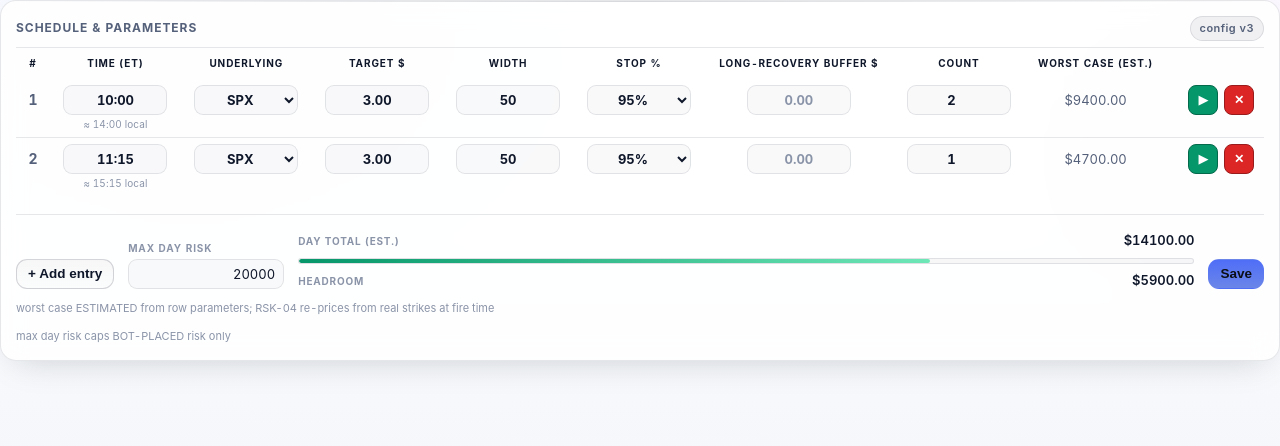
composing the schedule › adds and deletes rows locally, and sends them on Save
The width and height of the screenshot is (1280, 446).
Expected: the table is shown, [16,56,1264,196]
Click the button "+ Add entry" at (65, 274), box [16,259,114,289]
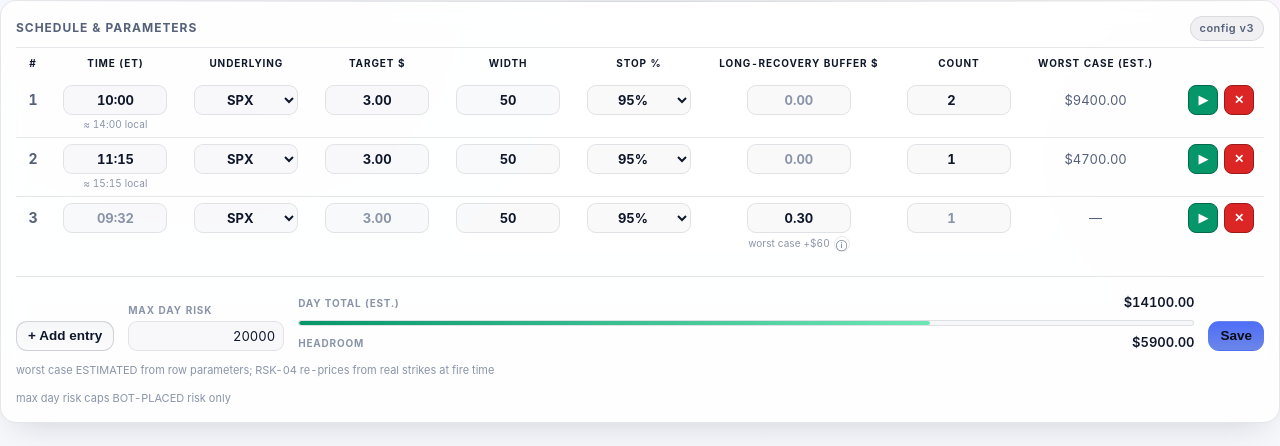
Type "13:00" into the field named "time 3" at (115, 218), box [63,203,167,233]
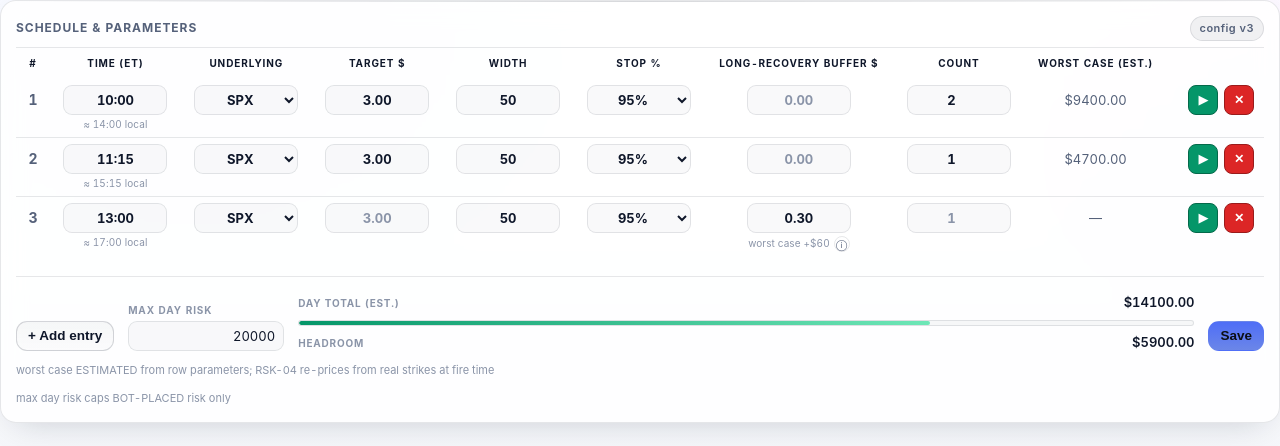
Click the button named "delete entry 2" at (1239, 159), box [1224,144,1254,174]
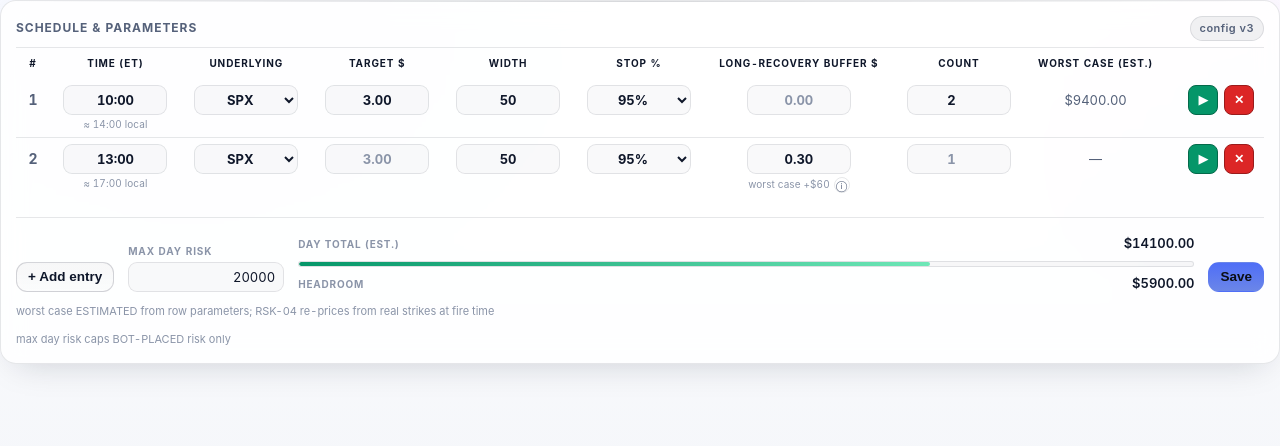
Click the button "Save" at (1236, 277), box [1208,262,1264,292]
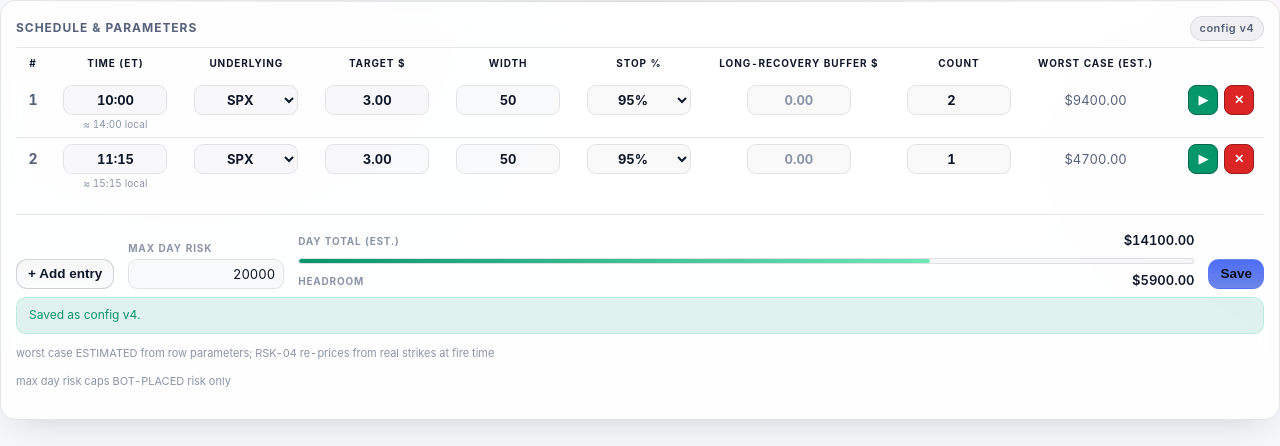
Now the text "Saved as config v4." is shown, box [16,297,1264,334]
